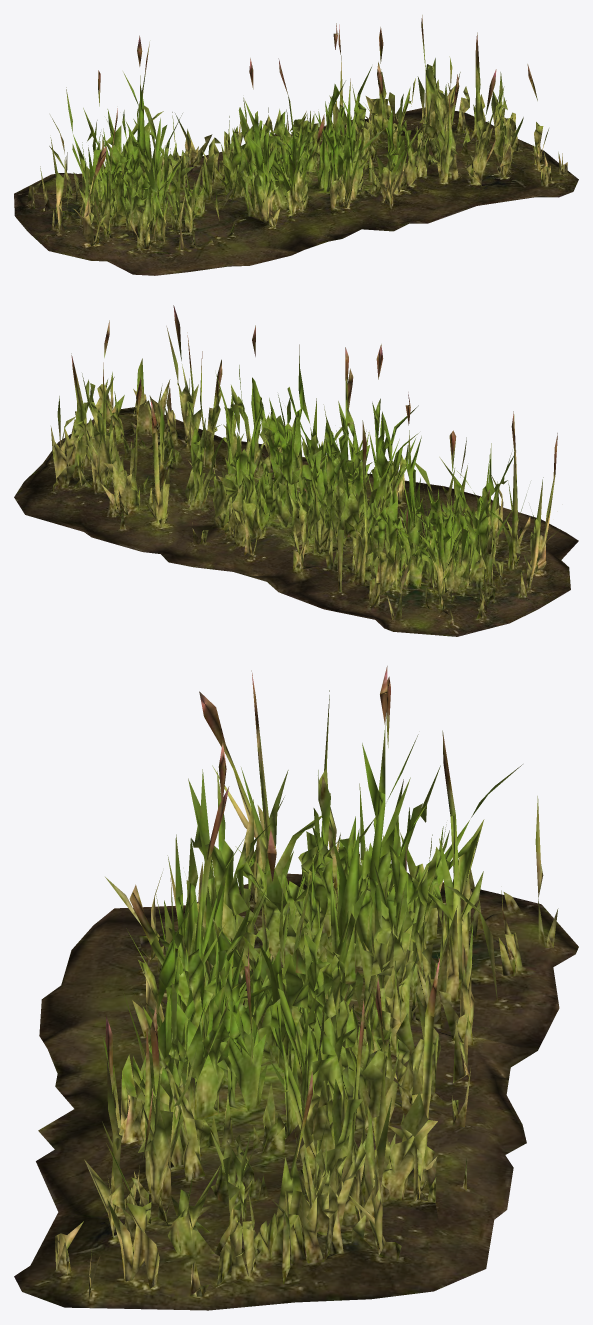
The model's file is city_balikesir_manyas_reeds.glb.
3 renders of one model, top to bottom at view 1: azimuth 30°, elevation 25°; view 2: azimuth 150°, elevation 25°; view 3: azimuth 270°, elevation 25°, orthographic. The views are drawn at different scales.
Visible parts, largest first — view 1: Mesh1.0; view 2: Mesh1.0; view 3: Mesh1.0.
Boxes of the visible parts, left/top/right/bottom form: Mesh1.0: left=14, top=15, right=578, bottom=275; Mesh1.0: left=14, top=305, right=578, bottom=636; Mesh1.0: left=14, top=666, right=578, bottom=1310.
Bounding box in the file's own units: 13.24 × 4.5 × 7.24.
Materials: 1 (1 with a texture image).
